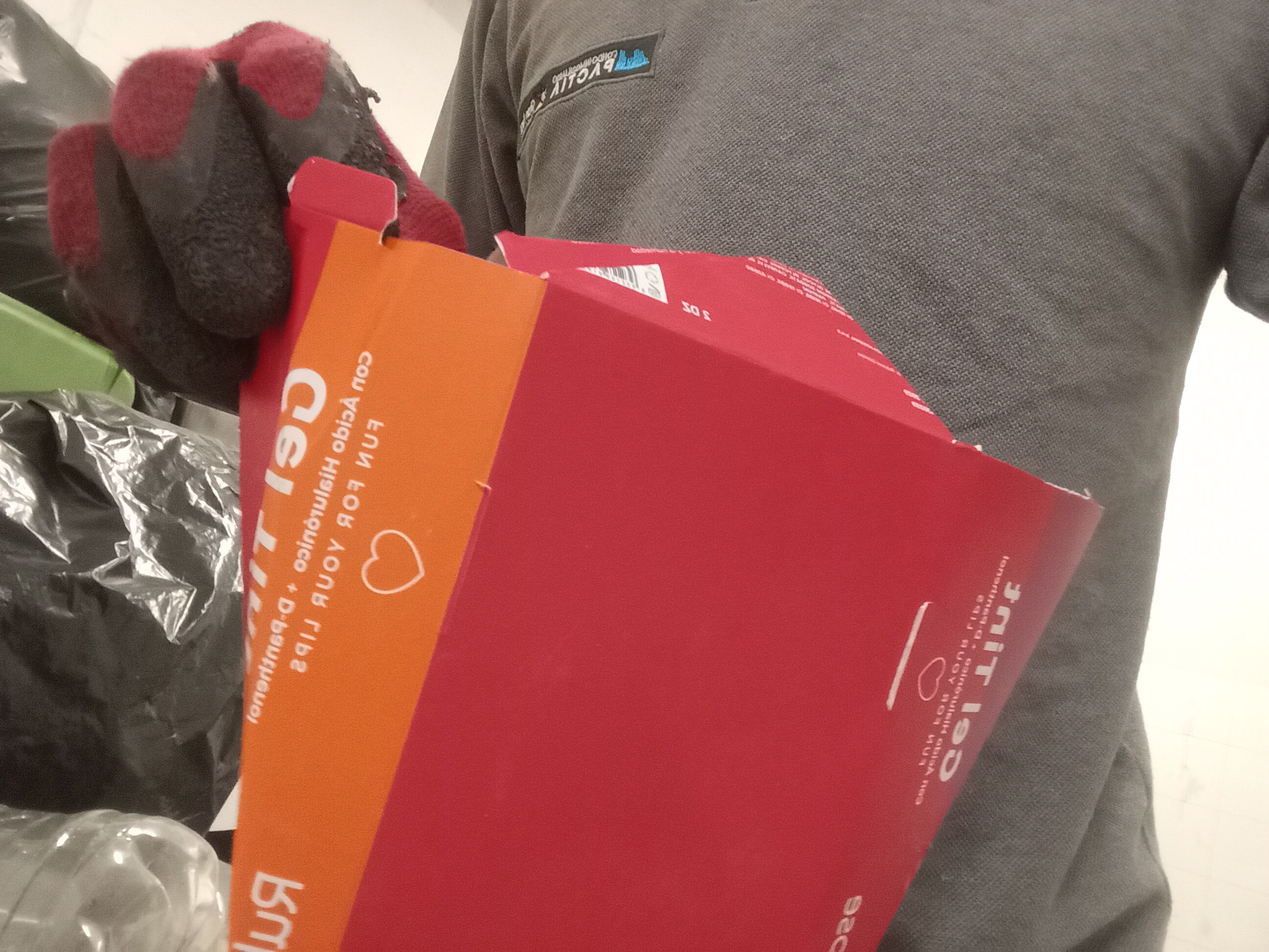Carton: (244, 157, 1107, 952)
